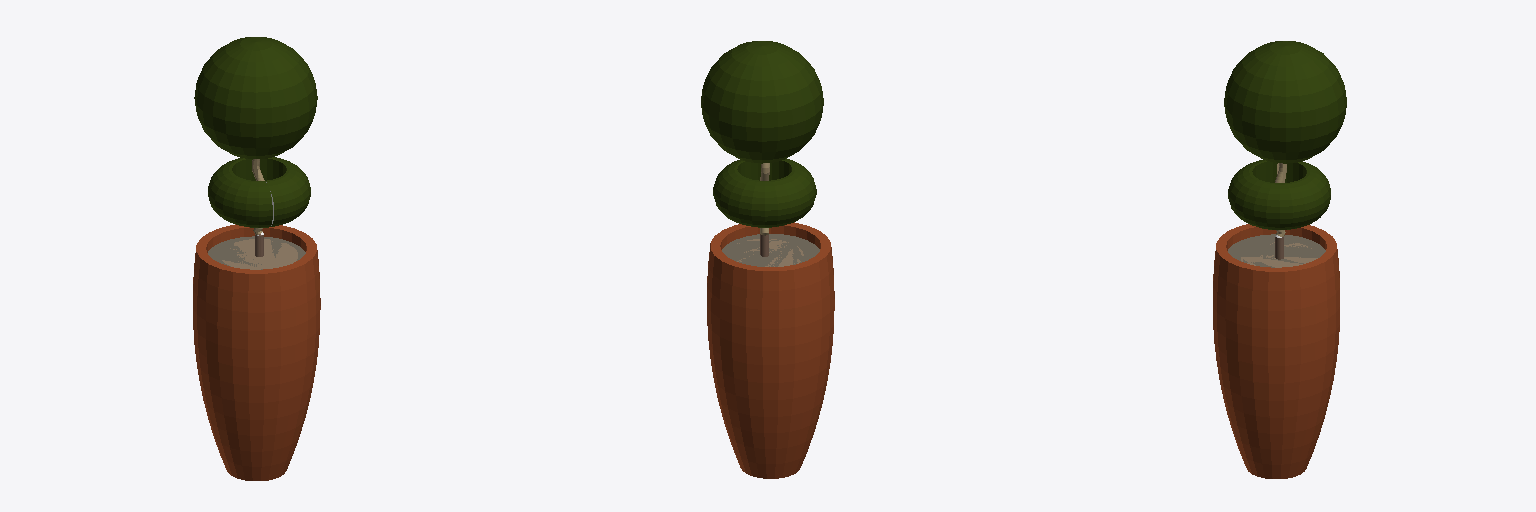
Rendered from plant.obj.
3 views of the same model, side by side, from view 1: azimuth 30°, elevation 25°; view 2: azimuth 150°, elevation 25°; view 3: azimuth 270°, elevation 25° (orthographic).
Parts seen in each view (by area): view 1: Mesh4 Group1 Tall_planter1 Planter_group1_1 G_3_Vasos_____http__, Mesh1 plant1 Component_11_1 Model, Mesh2 plant1 Component_11_1 Model, Mesh3 plant1 Component_11_1 Model; view 2: Mesh4 Group1 Tall_planter1 Planter_group1_1 G_3_Vasos_____http__, Mesh1 plant1 Component_11_1 Model, Mesh2 plant1 Component_11_1 Model, Mesh3 plant1 Component_11_1 Model; view 3: Mesh4 Group1 Tall_planter1 Planter_group1_1 G_3_Vasos_____http__, Mesh1 plant1 Component_11_1 Model, Mesh2 plant1 Component_11_1 Model, Mesh3 plant1 Component_11_1 Model.
Part boxes in pixels (left/top/right/bottom): Mesh4 Group1 Tall_planter1 Planter_group1_1 G_3_Vasos_____http__: left=193, top=224, right=320, bottom=480; Mesh1 plant1 Component_11_1 Model: left=194, top=37, right=317, bottom=158; Mesh2 plant1 Component_11_1 Model: left=208, top=157, right=310, bottom=227; Mesh3 plant1 Component_11_1 Model: left=222, top=159, right=297, bottom=269; Mesh4 Group1 Tall_planter1 Planter_group1_1 G_3_Vasos_____http__: left=707, top=222, right=834, bottom=478; Mesh1 plant1 Component_11_1 Model: left=701, top=41, right=823, bottom=163; Mesh2 plant1 Component_11_1 Model: left=713, top=158, right=816, bottom=227; Mesh3 plant1 Component_11_1 Model: left=737, top=163, right=803, bottom=266; Mesh4 Group1 Tall_planter1 Planter_group1_1 G_3_Vasos_____http__: left=1213, top=224, right=1339, bottom=478; Mesh1 plant1 Component_11_1 Model: left=1224, top=41, right=1346, bottom=163; Mesh2 plant1 Component_11_1 Model: left=1228, top=160, right=1330, bottom=229; Mesh3 plant1 Component_11_1 Model: left=1241, top=163, right=1317, bottom=267.
Bounding box in the file's own units: 48.2 × 173 × 49.85.